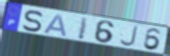6: (93, 20, 116, 45), (142, 28, 163, 52)
A: (42, 14, 68, 38)
I: (76, 16, 89, 41)
J: (119, 25, 140, 48)
S: (21, 10, 45, 33)
